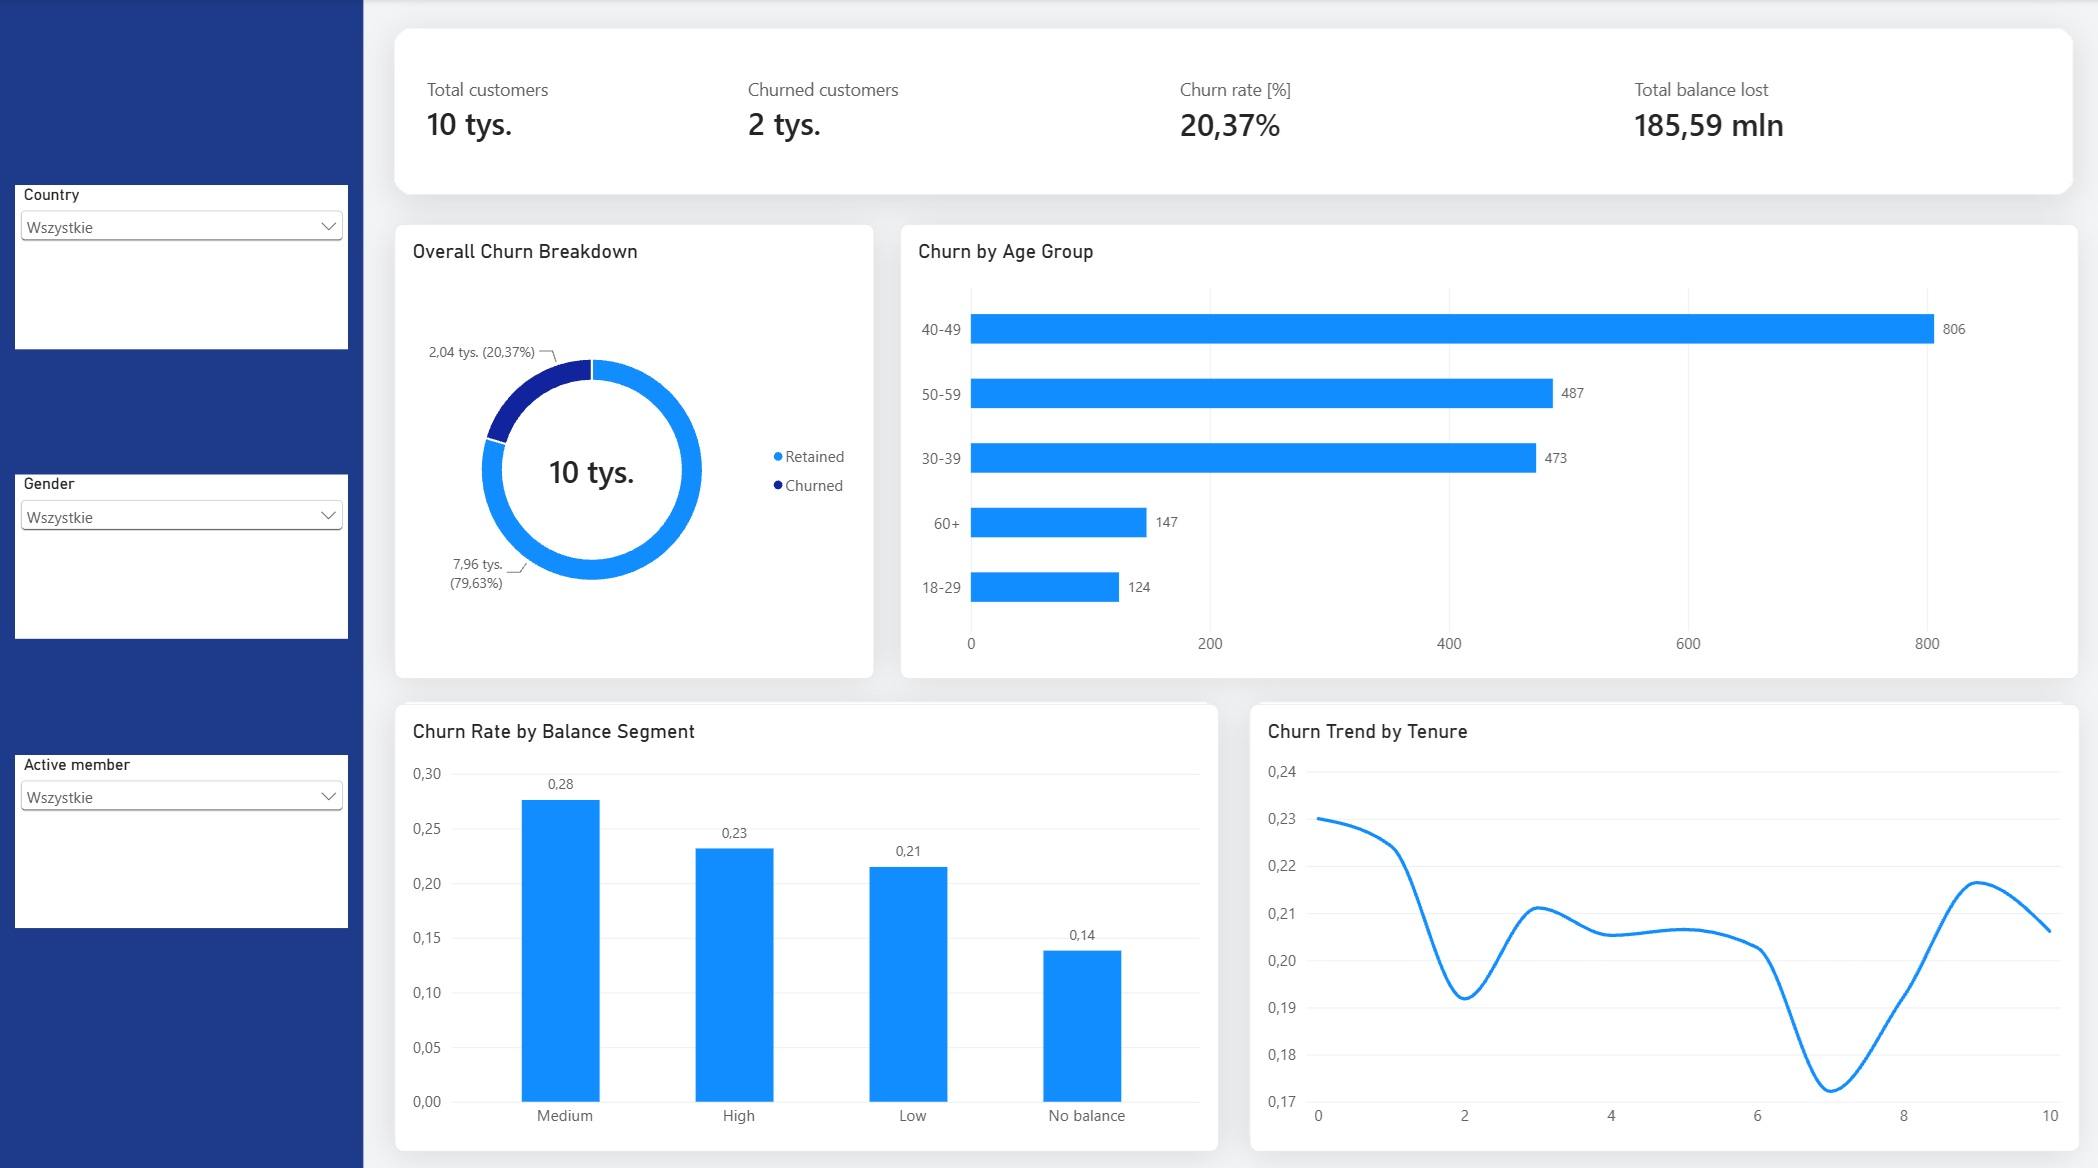

This screenshot's page, from the dashboard's own definition file:
{"tool":"powerbi","page":{"name":"Dashboard","canvas":[1920,1080],"ordinal":0},"visuals":[{"type":"cardVisual","fields":{"Data":["CountNonNull(cleaned_bank_churn.churn)"]},"box":[373.7,33,293.7,137.3],"z":0},{"type":"donutChart","title":"Overall Churn Breakdown","fields":{"Category":["cleaned_bank_churn.Churn Status"],"Y":["CountNonNull(cleaned_bank_churn.churn)"]},"box":[359.8,205.1,438,415.4],"z":1000},{"type":"clusteredBarChart","title":"Churn by Age Group","fields":{"Category":["cleaned_bank_churn.age_group"],"Y":["Sum(cleaned_bank_churn.churn)"]},"box":[822.1,205.1,1075.9,415.4],"z":2000},{"type":"clusteredColumnChart","title":"Churn Rate by Balance Segment","fields":{"Category":["cleaned_bank_churn.balance_segment"],"Y":["Avg(cleaned_bank_churn.churn)"]},"box":[359.8,643.1,752.6,408.5],"z":3000},{"type":"lineChart","title":"Churn Trend by Tenure","fields":{"Category":["cleaned_bank_churn.tenure"],"Y":["Avg(cleaned_bank_churn.churn)"]},"box":[1140.2,643.1,757.8,408.5],"z":4000},{"type":"slicer","fields":{"Values":["cleaned_bank_churn.country"]},"box":[13.9,170.3,304.2,150],"z":5000},{"type":"slicer","fields":{"Values":["cleaned_bank_churn.active_member"]},"box":[13.9,690,304.2,158.2],"z":6000},{"type":"slicer","fields":{"Values":["cleaned_bank_churn.gender"]},"box":[13.9,434.5,304,150],"z":7000},{"type":"cardVisual","fields":{"Data":["Sum(cleaned_bank_churn.churn)"]},"box":[667.4,33,394.5,139],"z":8000},{"type":"cardVisual","fields":{"Data":["Avg(cleaned_bank_churn.churn)"]},"box":[1062,34.8,413.7,137.3],"z":9000},{"type":"cardVisual","fields":{"Data":["Sum(cleaned_bank_churn.balance)"]},"box":[1475.6,34.8,385.9,137.3],"z":10000}]}

Visuals, with their boxes in screenshot pixels (x1, y1, x2, y2), scaled from the page's 1920x1080 canvas onto the 2098x1168 screenshot:
cardVisual - CountNonNull(cleaned_bank_churn.churn): 408 36 729 184
"Overall Churn Breakdown" donutChart: 393 222 872 671
"Churn by Age Group" clusteredBarChart: 898 222 2074 671
"Churn Rate by Balance Segment" clusteredColumnChart: 393 696 1216 1137
"Churn Trend by Tenure" lineChart: 1246 696 2074 1137
slicer - cleaned_bank_churn.country: 15 184 348 346
slicer - cleaned_bank_churn.active_member: 15 746 348 917
slicer - cleaned_bank_churn.gender: 15 470 347 632
cardVisual - Sum(cleaned_bank_churn.churn): 729 36 1160 186
cardVisual - Avg(cleaned_bank_churn.churn): 1160 38 1613 186
cardVisual - Sum(cleaned_bank_churn.balance): 1612 38 2034 186
